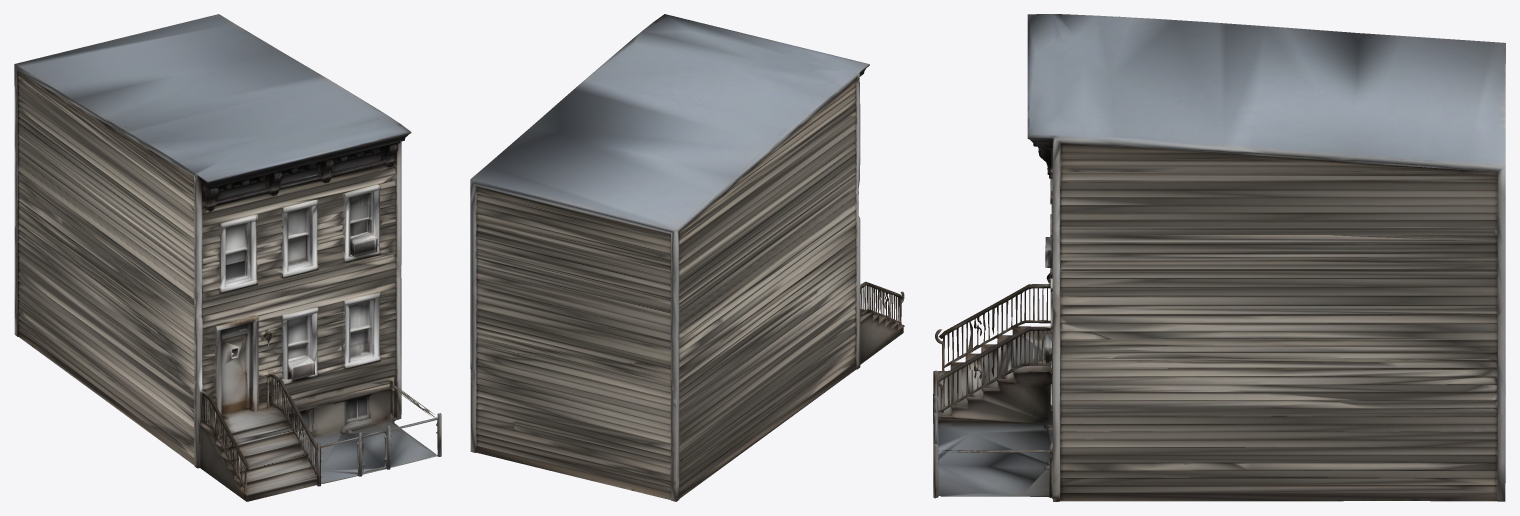
Rendered from frame_house.glb.
3 renders of one model, left to right at view 1: azimuth 30°, elevation 25°; view 2: azimuth 150°, elevation 25°; view 3: azimuth 270°, elevation 25°, orthographic. The views are drawn at different scales.
Parts seen in each view (by area): view 1: node_0; view 2: node_0; view 3: node_0.
Part boxes in pixels (box(x1,y1,x2,y2)): node_0: box(14, 14, 441, 501); node_0: box(470, 14, 904, 501); node_0: box(933, 14, 1505, 501).
Bounding box in the file's own units: 0.4655 × 0.6408 × 0.9089.
Materials: 1 (1 with a texture image).
